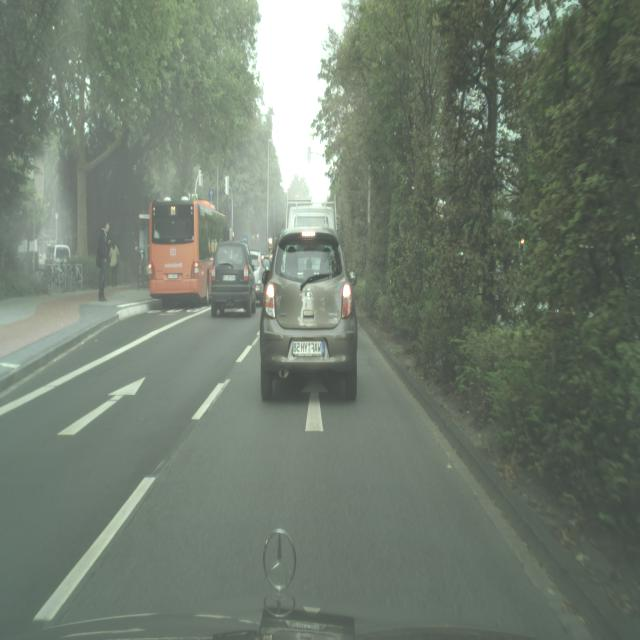bicycle: (147, 196, 227, 304)
person: (96, 221, 110, 301), (109, 238, 119, 288)
truck: (259, 224, 358, 402), (209, 240, 257, 318), (249, 250, 266, 306)
